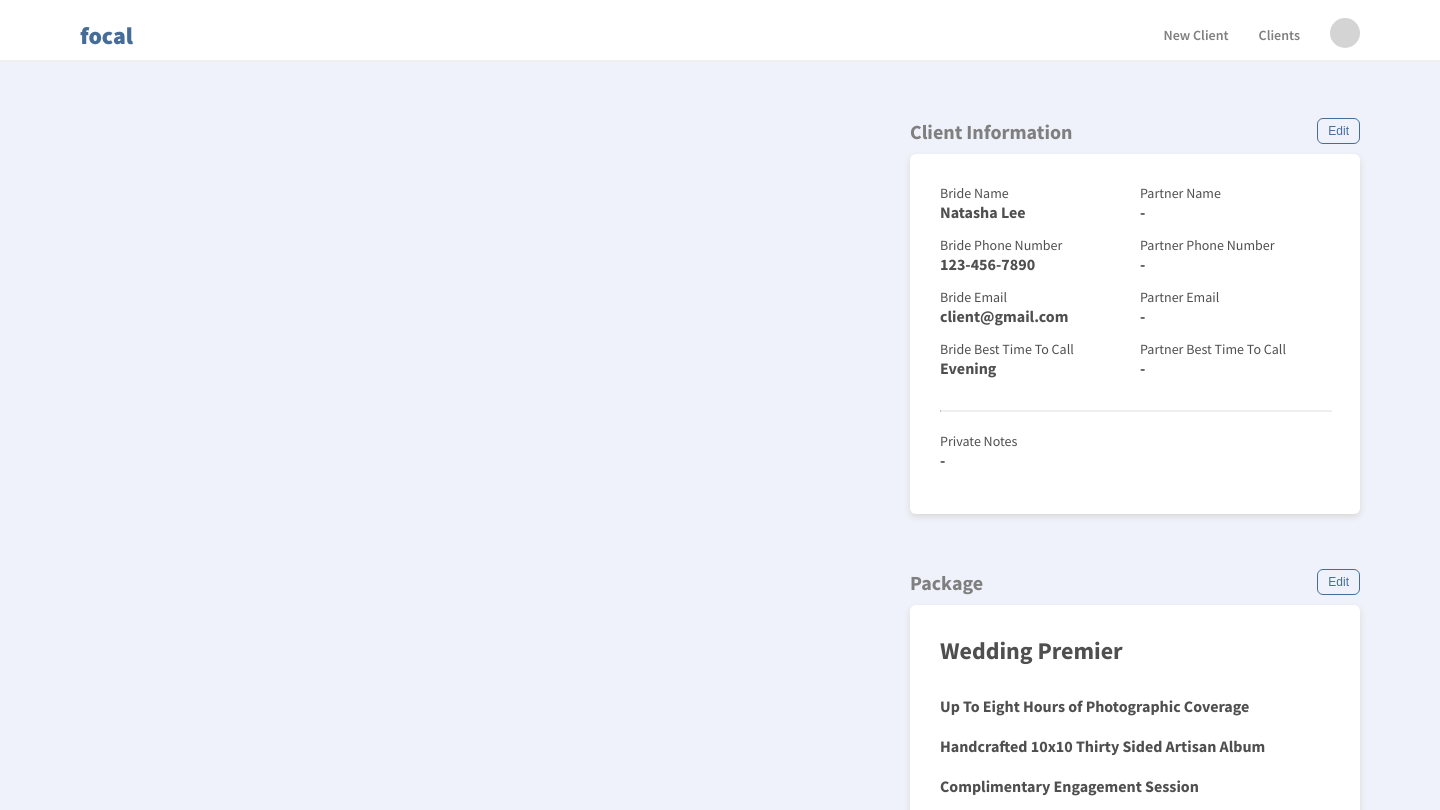
Test: Package Flow › renders the updated information after successful client package update
The image size is (1440, 810).
Expected: the heading "Natasha Lee" is shown, x1=940 y1=202 x2=1026 y2=222
Click the button with test id "edit-package-btn" at [1339, 582], box x1=1317 y1=569 x2=1360 y2=595
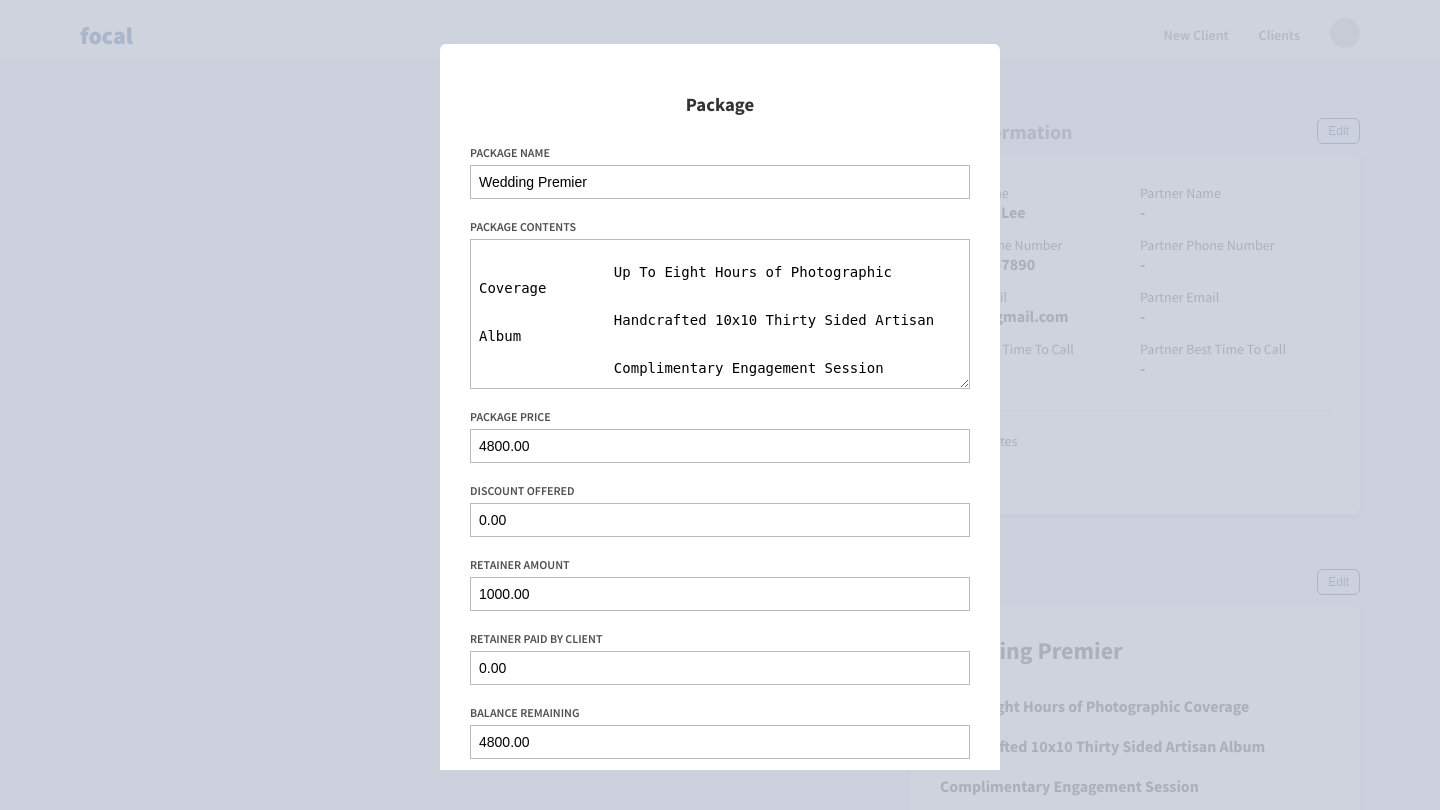
Replace the text in the field labelled "Package Name" with "Wedding Classic" at [720, 181], box x1=470 y1=164 x2=970 y2=198
Replace the text in the number field labelled "Package Price" with "10000" at [720, 445], box x1=470 y1=428 x2=970 y2=462
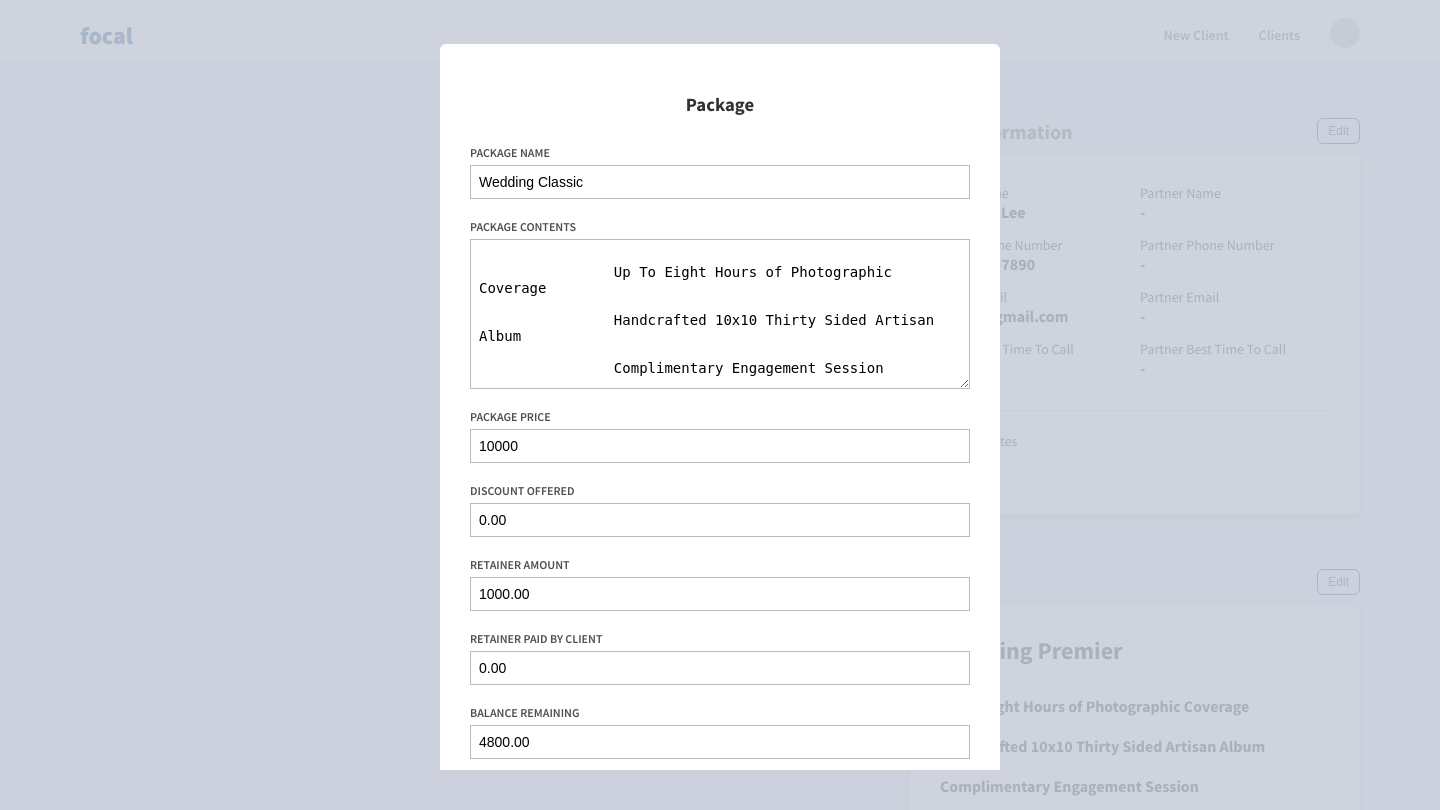
Replace the text in the number field labelled "Balance Remaining" with "5000" at [720, 741], box x1=470 y1=724 x2=970 y2=758
(page scrolled)
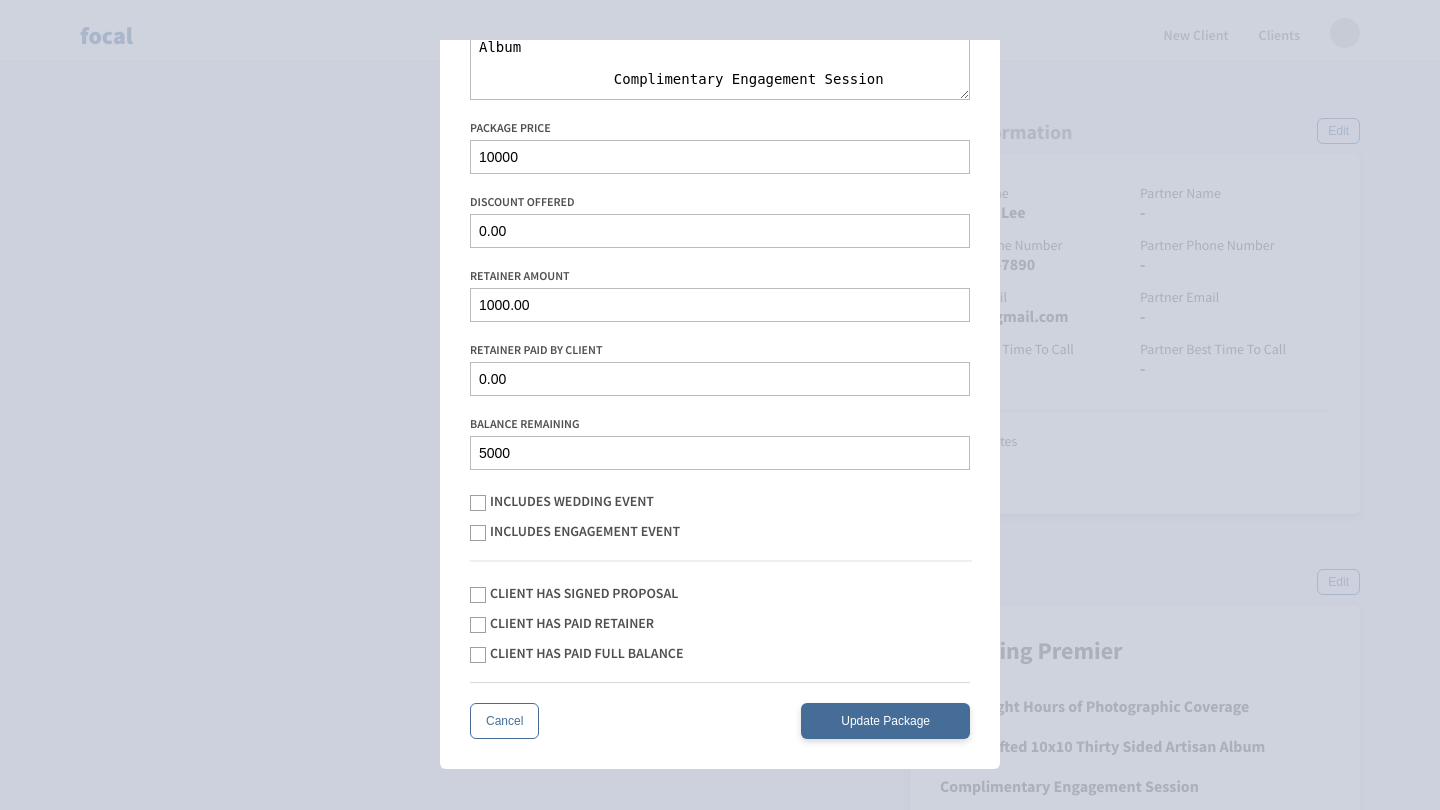
Click the checkbox labelled "Client Has Signed Proposal" at [584, 593], box x1=490 y1=584 x2=678 y2=602
(page scrolled)
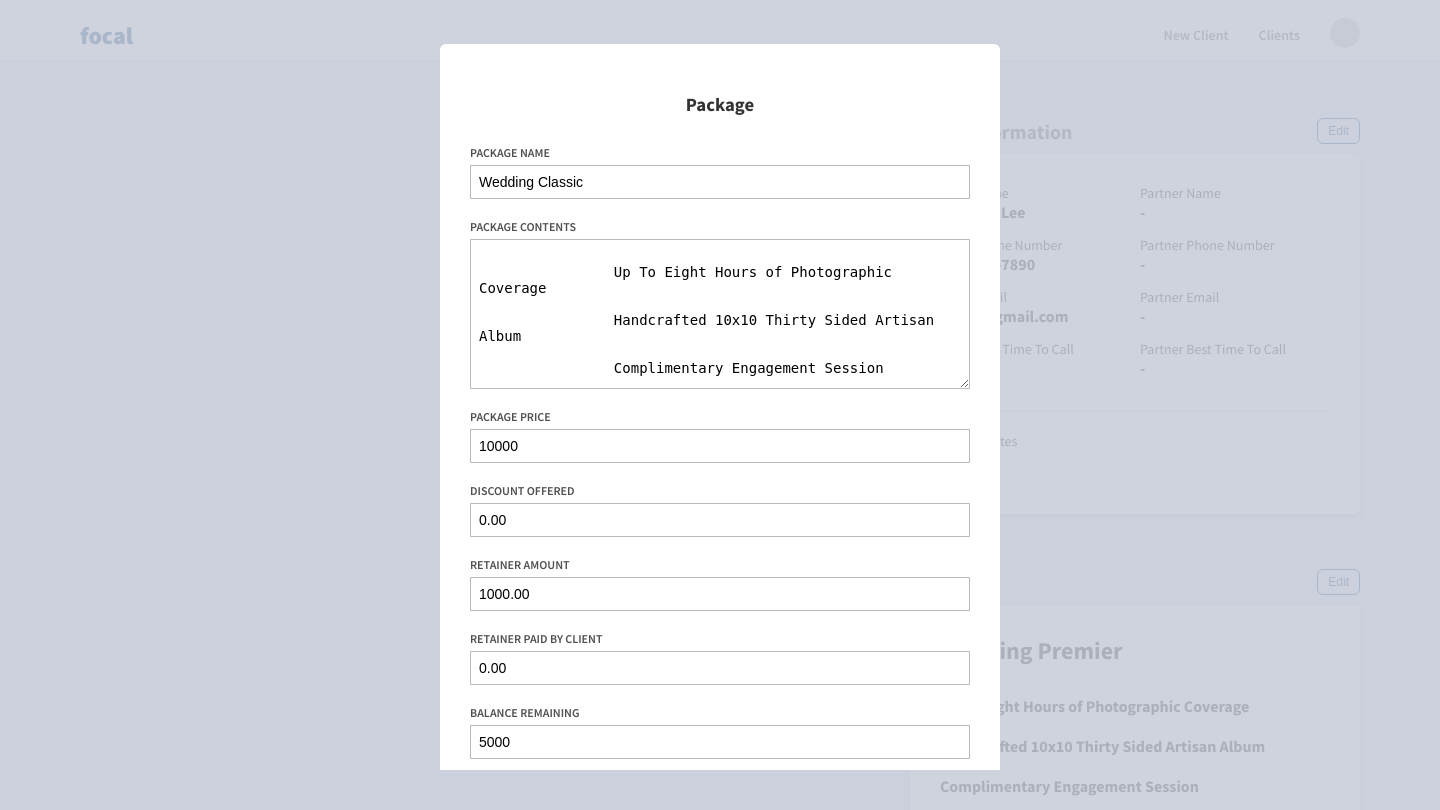
Replace the text in the text box labelled "Package Contents" with "10 Hours of Photographic Coverage" at [720, 313], box x1=470 y1=238 x2=970 y2=388
(page scrolled)
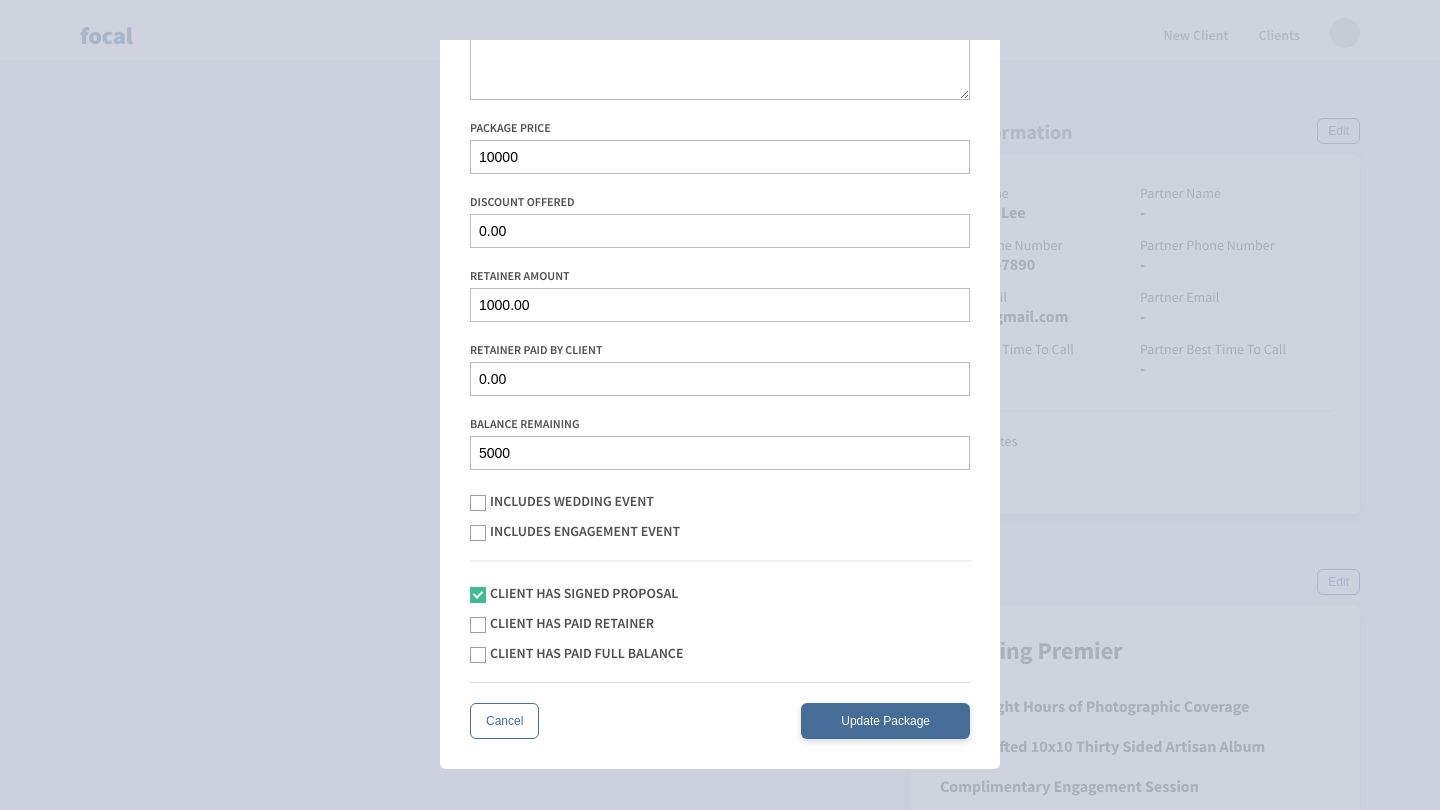
Click the button "Update Package" at [886, 721], box x1=801 y1=703 x2=970 y2=739
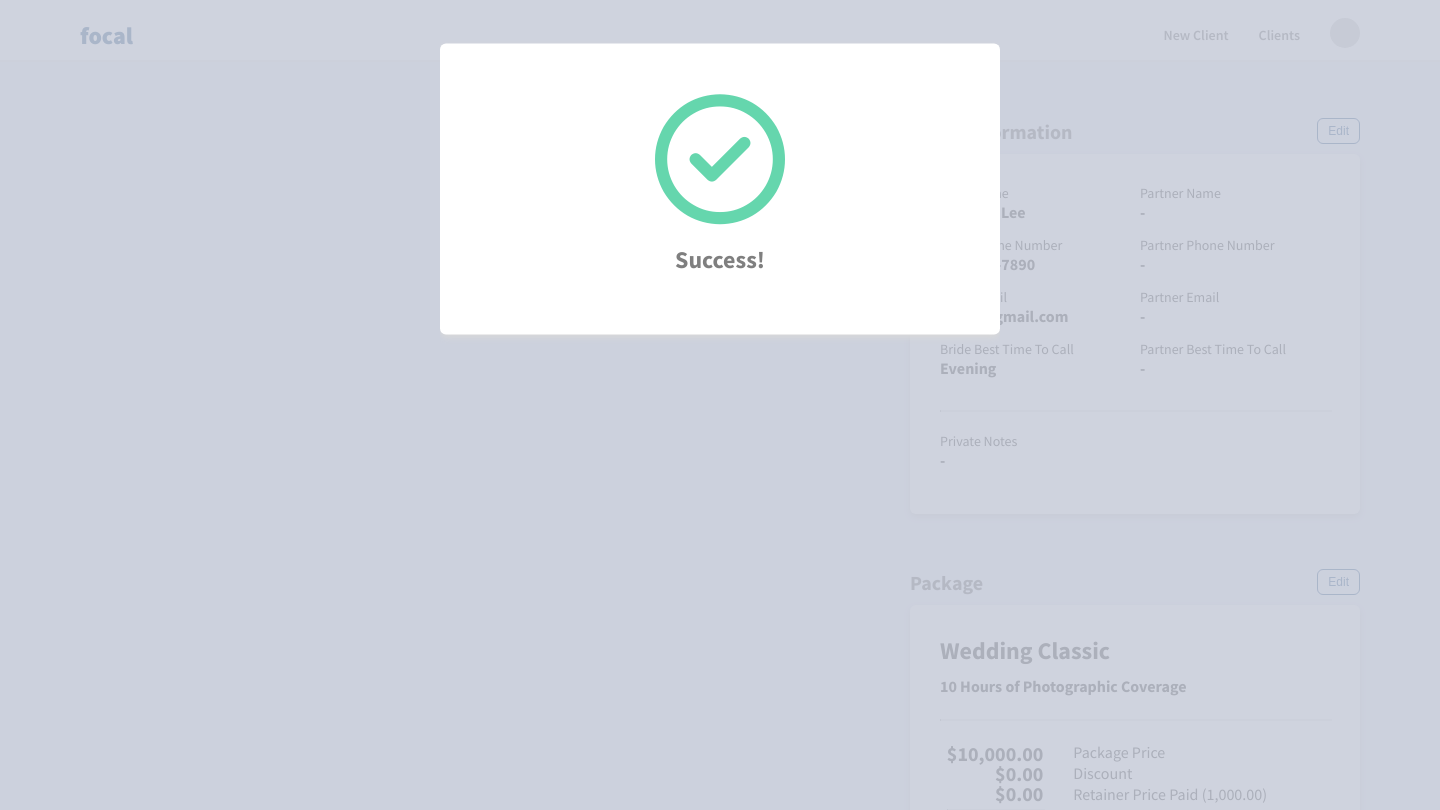
Now the heading "Wedding Classic" is shown, box x1=940 y1=635 x2=1110 y2=666
Now the heading "$10,000.00" is shown, box x1=947 y1=741 x2=1043 y2=761
Now the heading "10 Hours of Photographic Coverage" is shown, box x1=940 y1=676 x2=1186 y2=696
